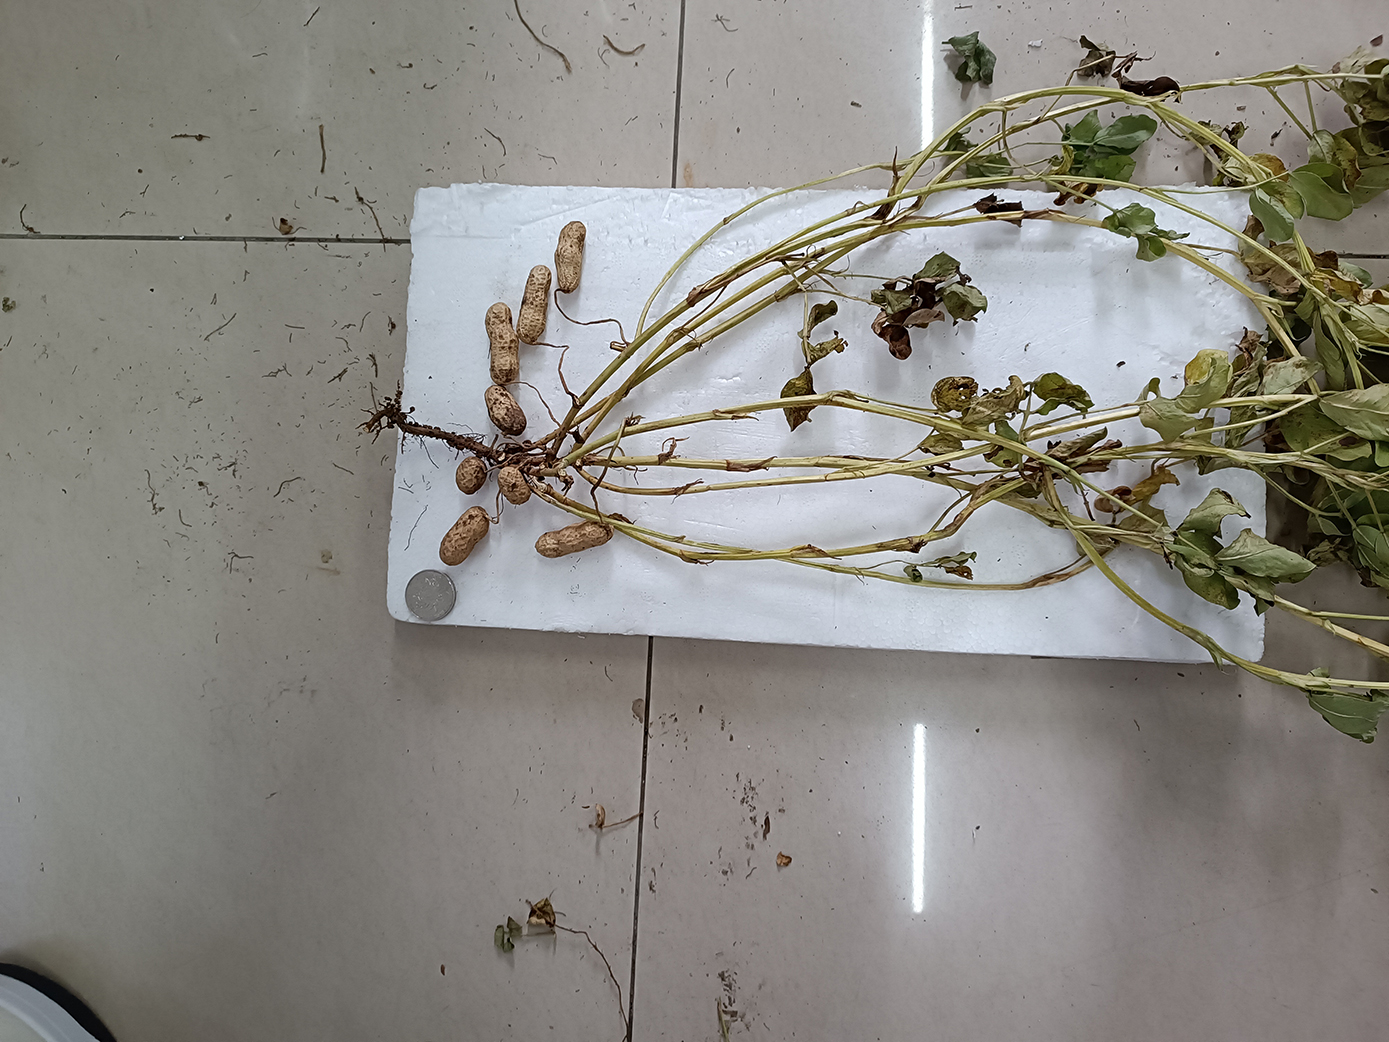h: (534, 519, 615, 559), (484, 302, 521, 384), (439, 506, 489, 566), (516, 265, 552, 346), (554, 220, 587, 294), (483, 385, 529, 435), (455, 456, 488, 495), (497, 467, 531, 503)
